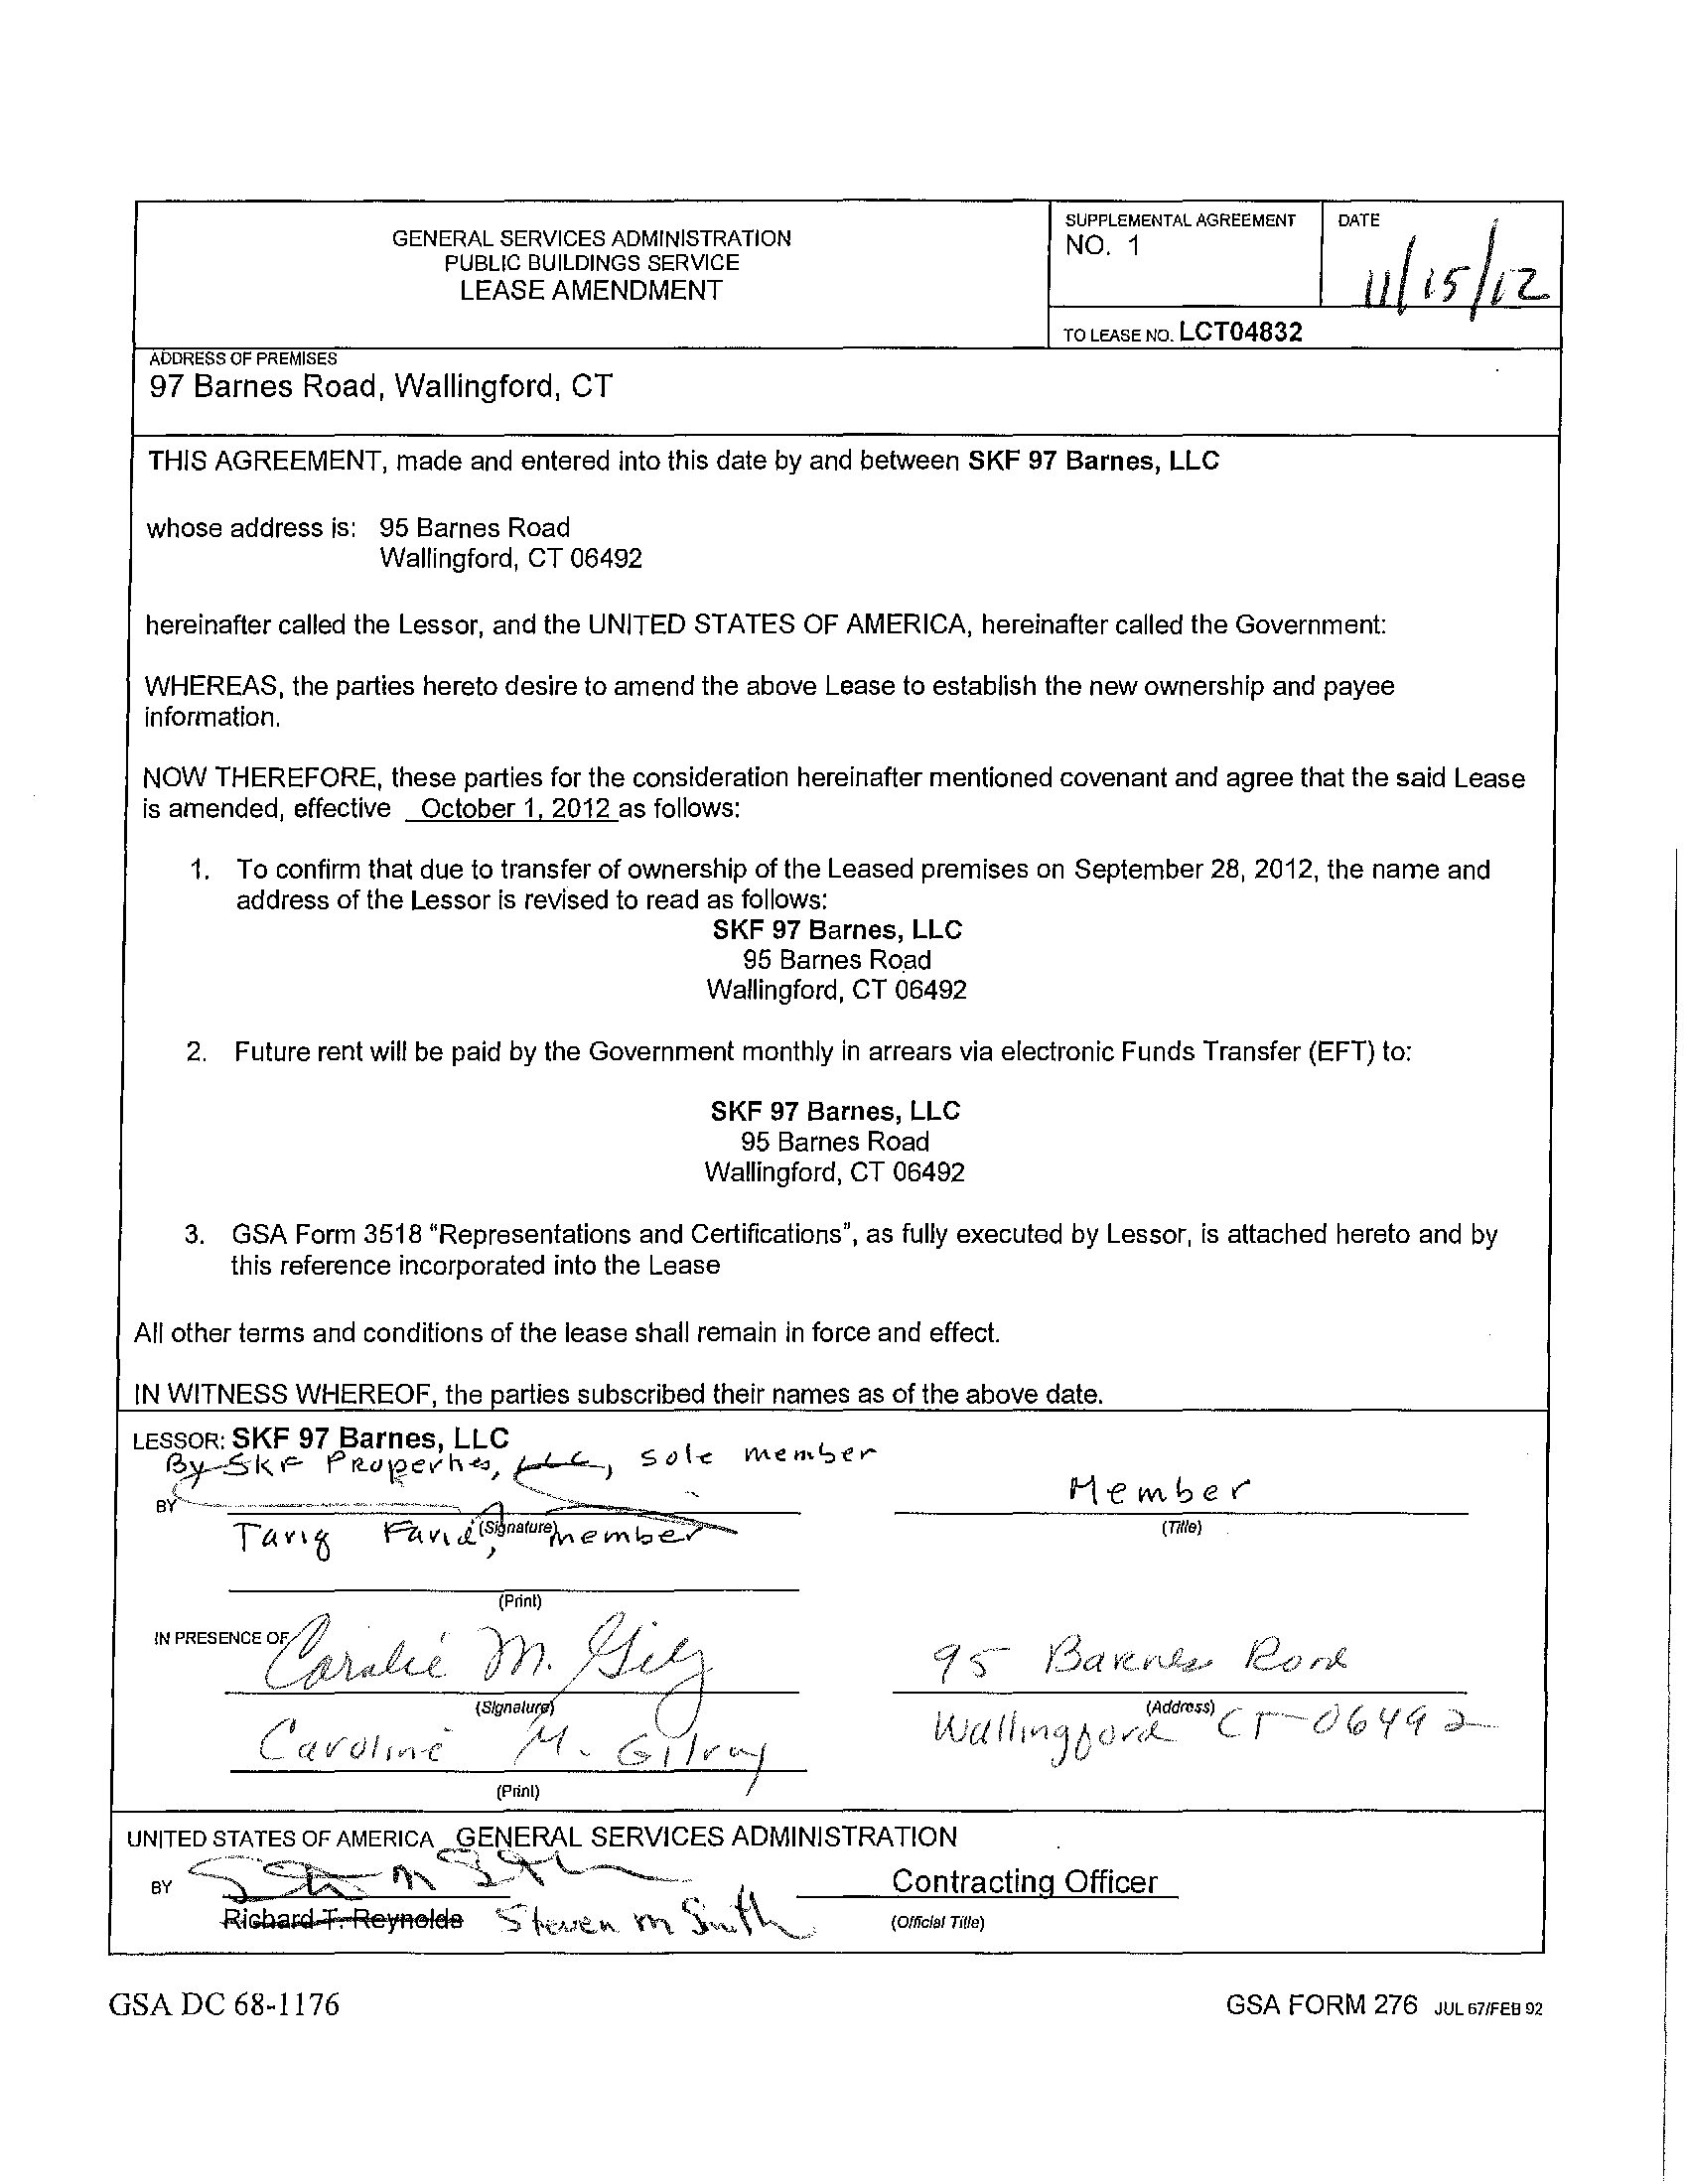handwritten: (234, 1592, 748, 1725), (227, 1704, 805, 1806), (156, 1434, 890, 1498), (200, 1494, 764, 1569), (924, 1691, 1527, 1760), (929, 1613, 1395, 1688), (183, 1835, 695, 1899), (1346, 218, 1594, 323), (1030, 1423, 1310, 1514), (466, 1893, 846, 1959)
